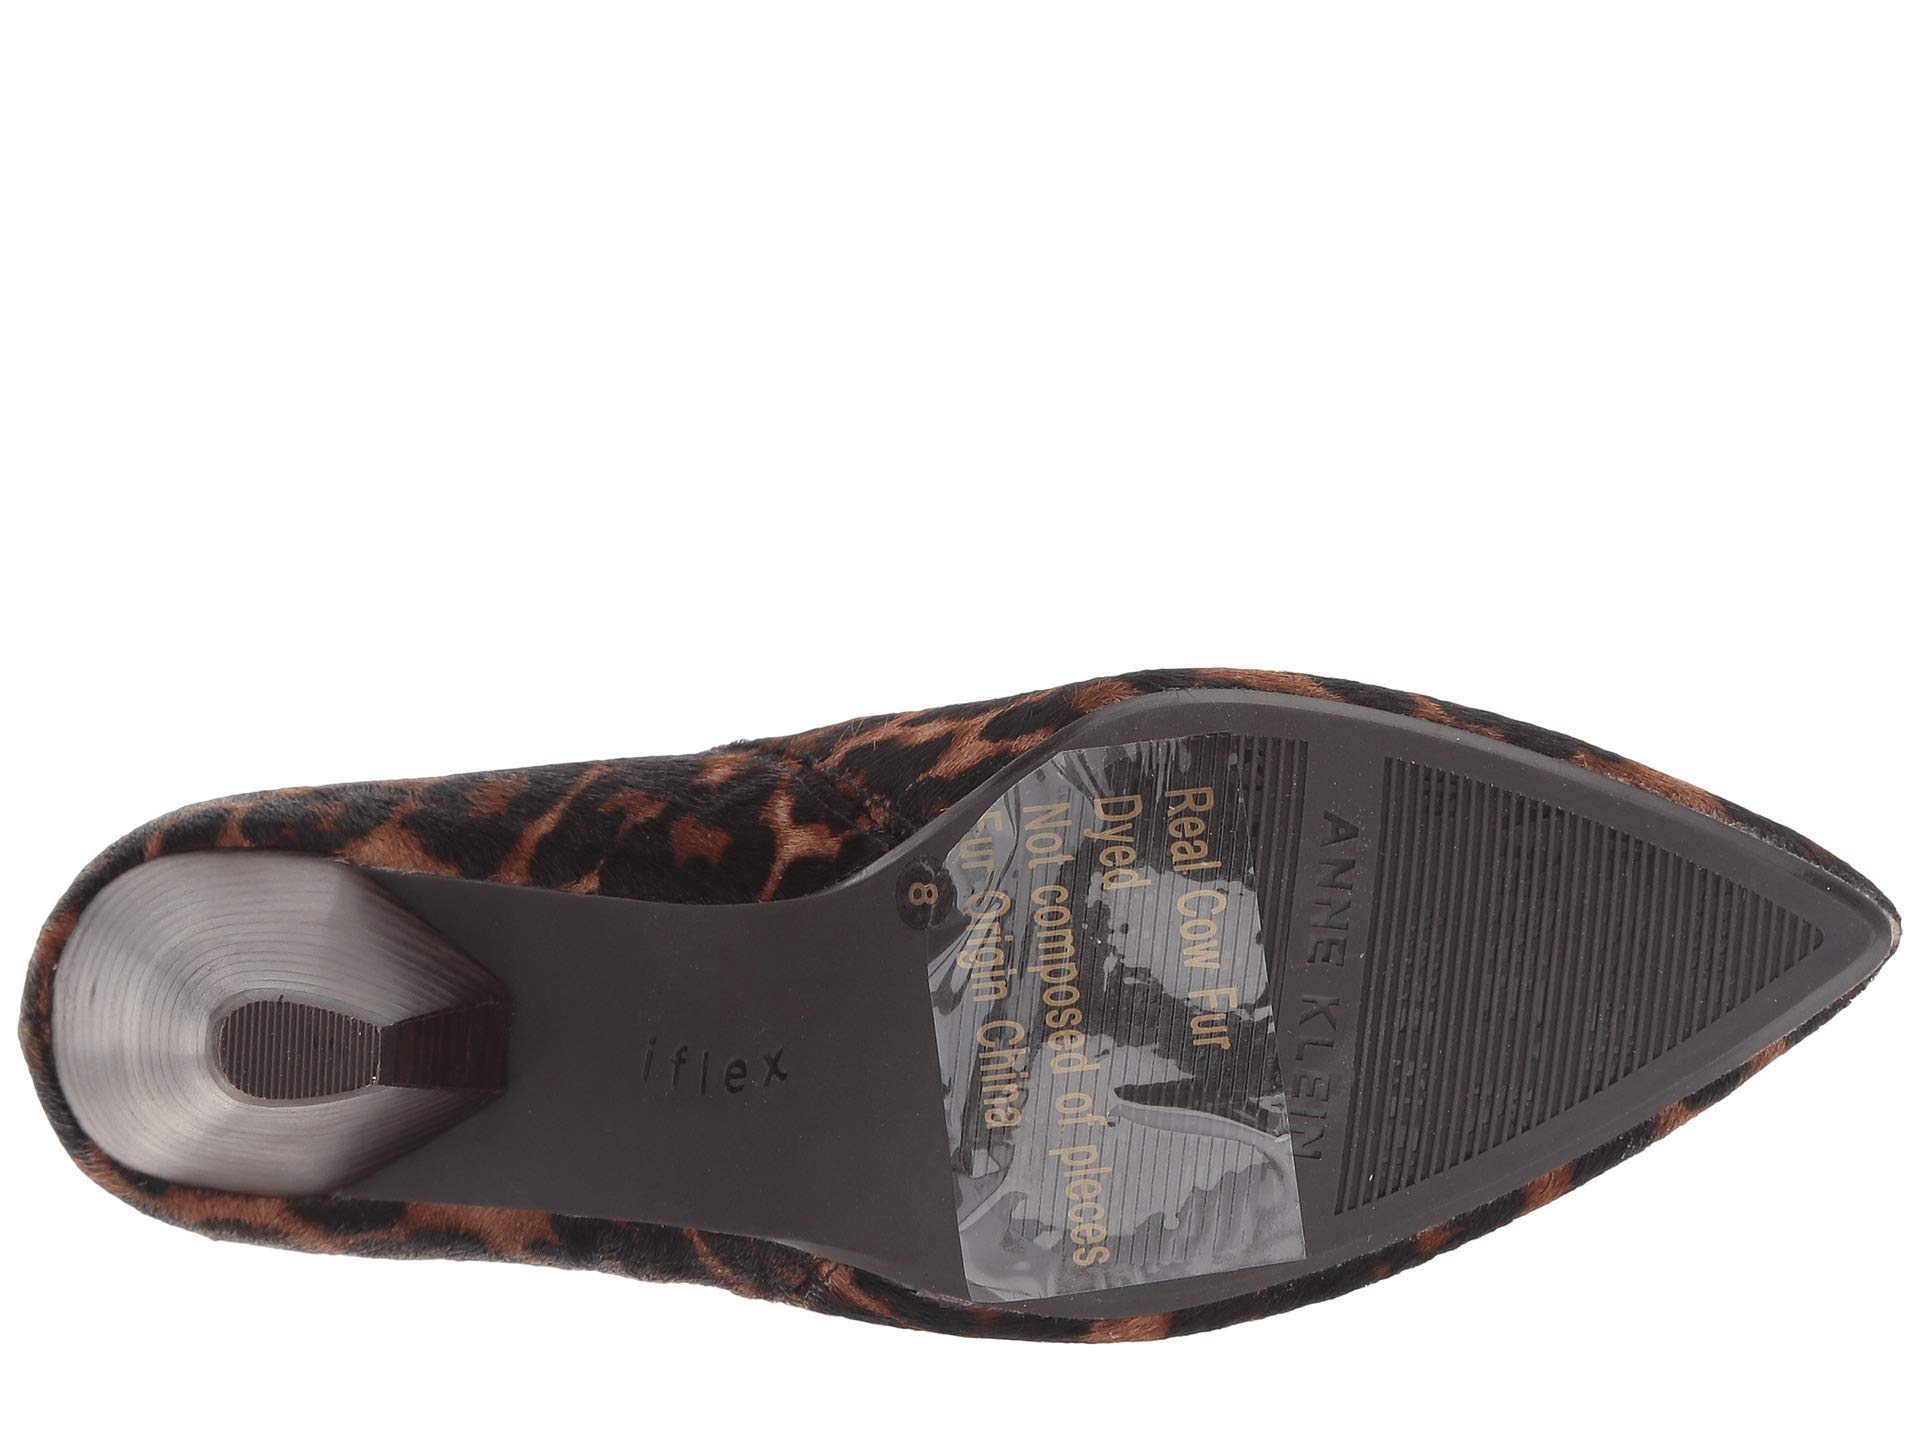line: (1284, 790, 1507, 1026)
text: (1284, 790, 1507, 1026)
